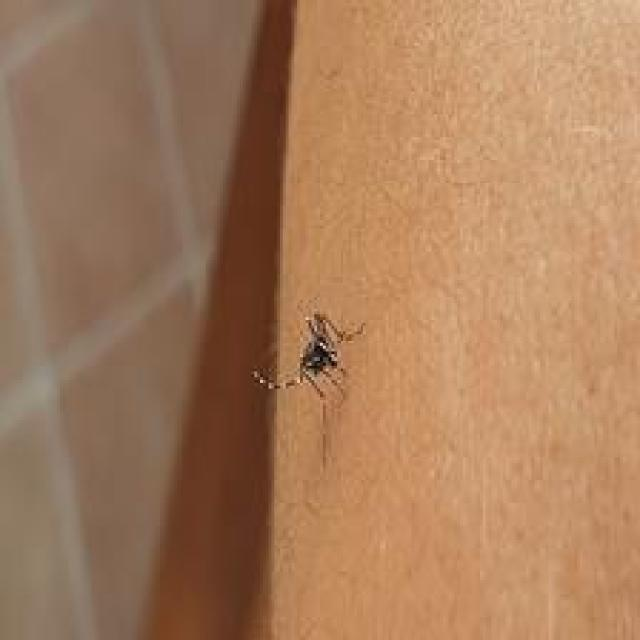Aedes albopictus: (250, 310, 367, 401)
